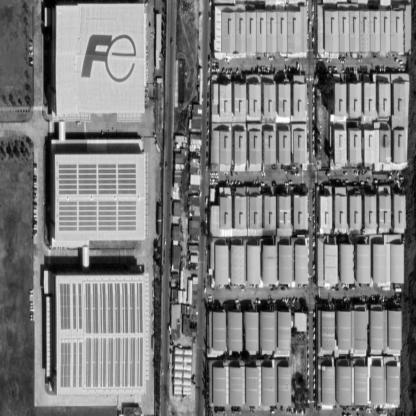solar-pv-panel: (59, 200, 136, 231), (59, 164, 136, 194), (60, 284, 71, 330), (61, 343, 71, 388), (122, 338, 129, 387), (86, 283, 92, 334), (100, 283, 106, 334), (115, 283, 121, 334), (92, 284, 98, 334), (107, 283, 113, 333), (122, 283, 128, 333), (130, 283, 136, 333), (137, 283, 143, 333), (93, 337, 99, 387), (100, 338, 106, 388), (137, 338, 143, 387), (86, 337, 91, 388), (108, 337, 113, 387), (115, 338, 120, 387), (130, 338, 135, 387), (72, 283, 77, 329), (78, 284, 82, 330), (73, 342, 77, 387), (79, 342, 82, 388)
